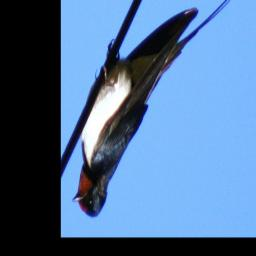Swallow: (71, 0, 248, 219)
